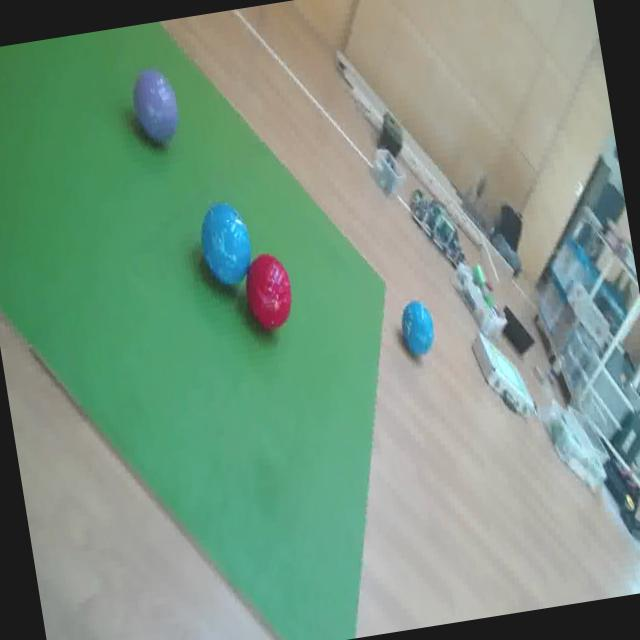blue_ball: (194, 196, 256, 292), (396, 294, 436, 356)
purple_ball: (128, 64, 186, 152)
red_ball: (240, 248, 300, 335)
